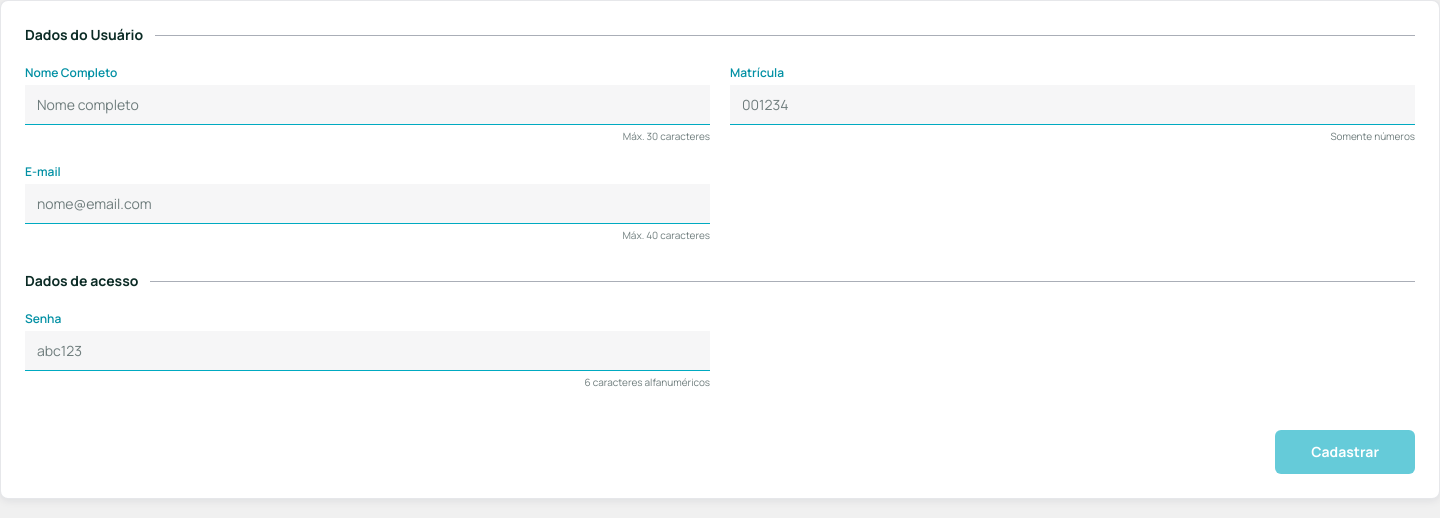
Test: UserForm › displays an error for an invalid name
This screenshot has width=1440, height=518.
Type "Maria 2" into the field labelled "Nome". click: (368, 105)
box: [25, 85, 710, 125]
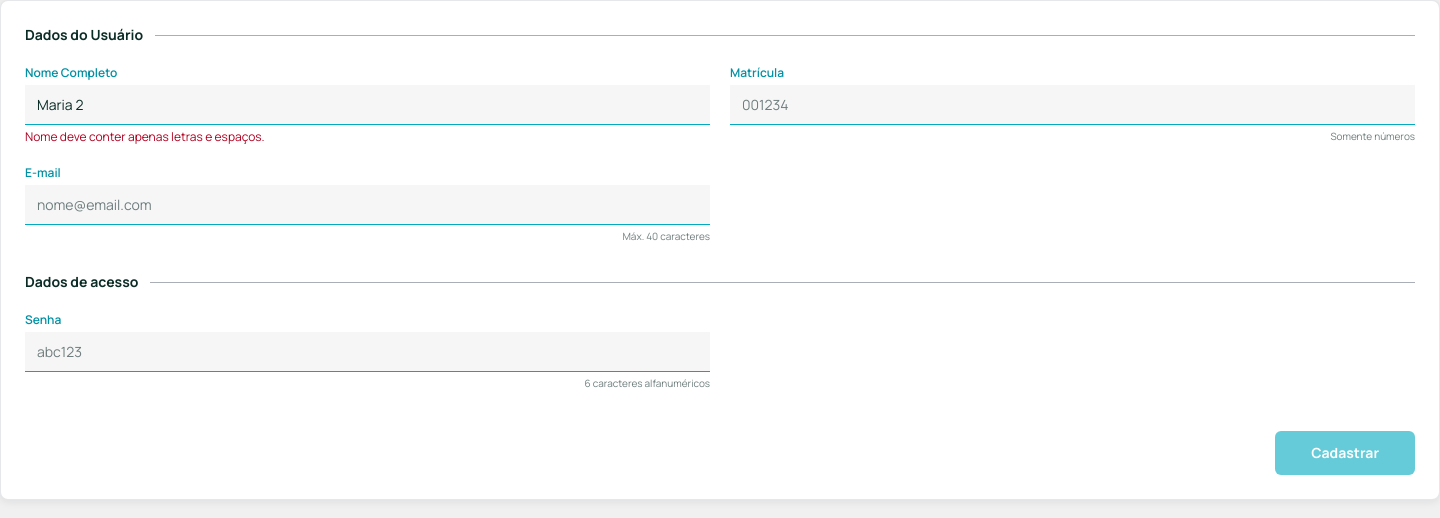
Now the message reads "Nome deve conter apenas letras e espaços.", box [25, 128, 264, 145]
